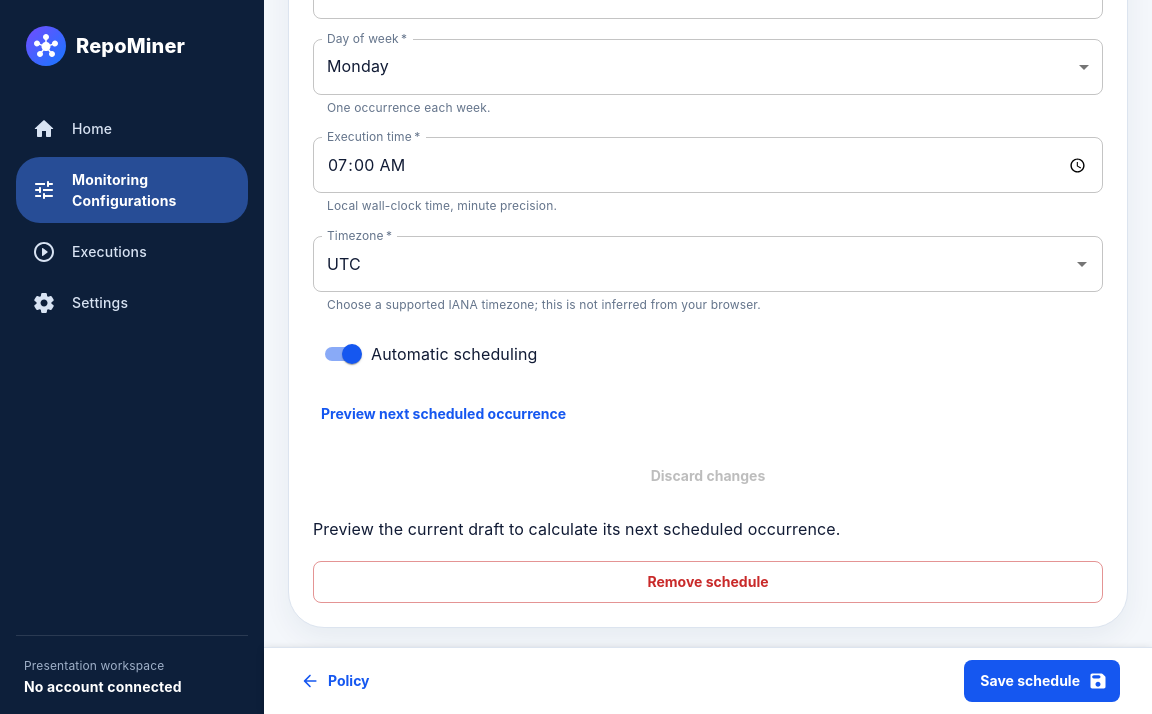
Test case: marks edits as unsaved and keeps navigation blocked until the user chooses
(page scrolled)
Click the switch labelled "Automatic scheduling" at [431, 354], box [325,344,538,364]
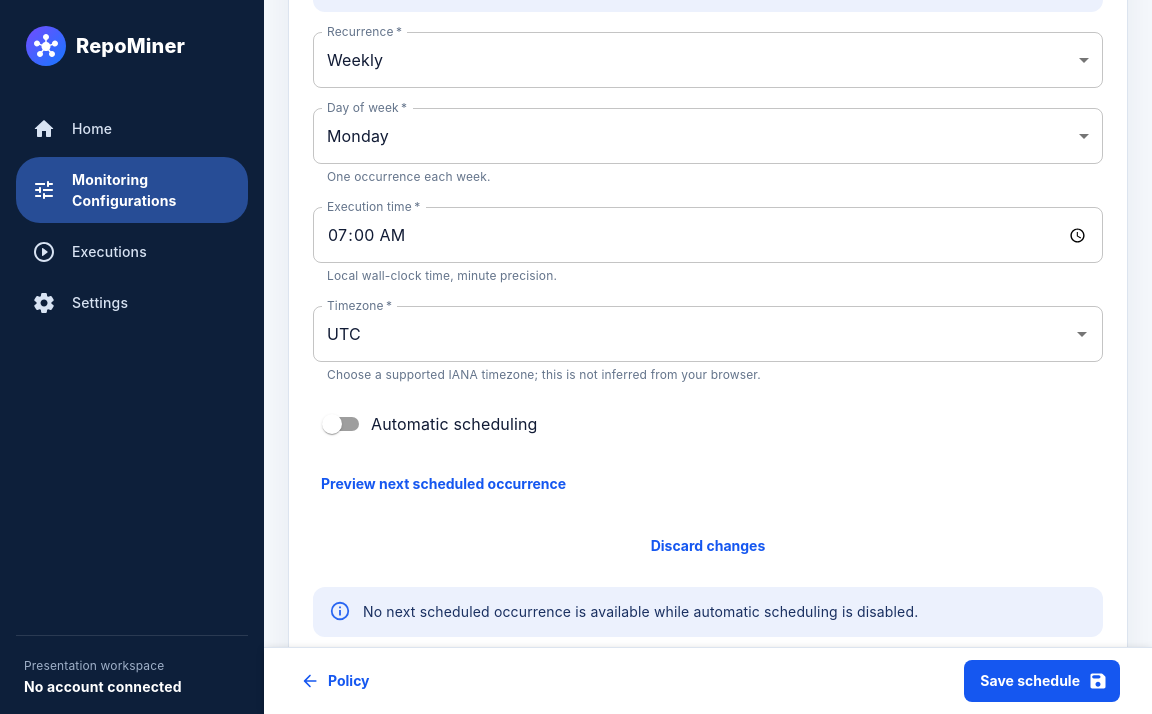
Click the link "Monitoring Configurations" at [132, 190], box [16,157,248,223]
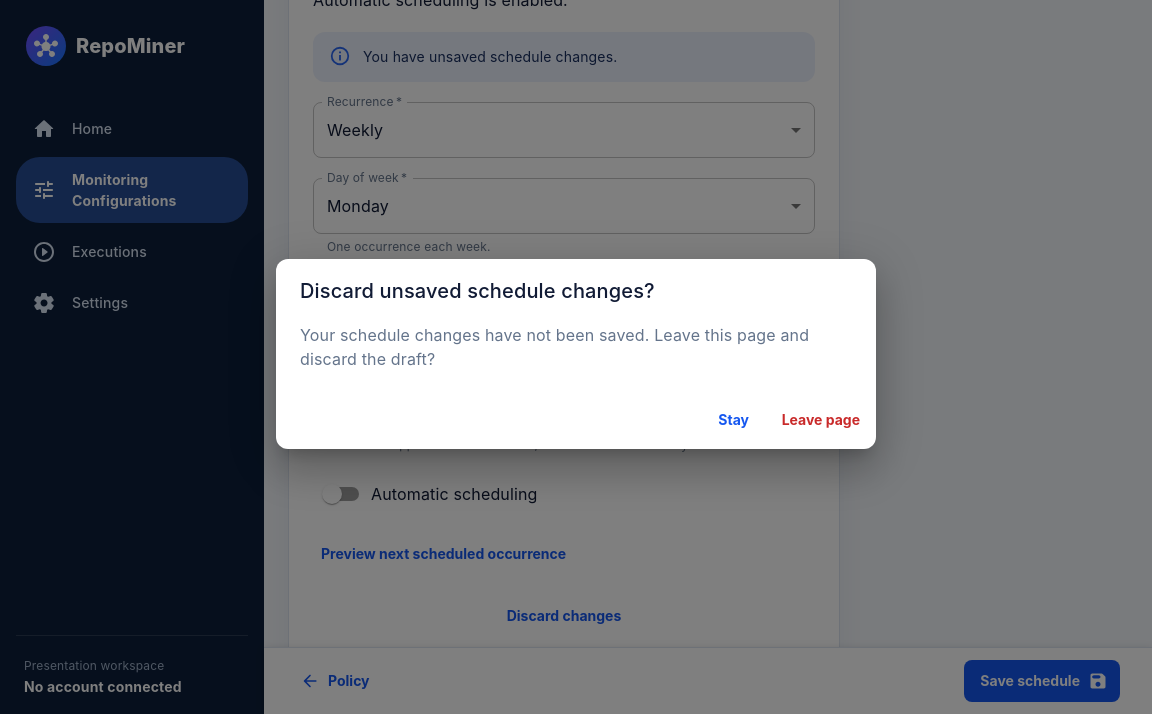
Click the button "Stay" at [734, 420], box [702,399,766,441]
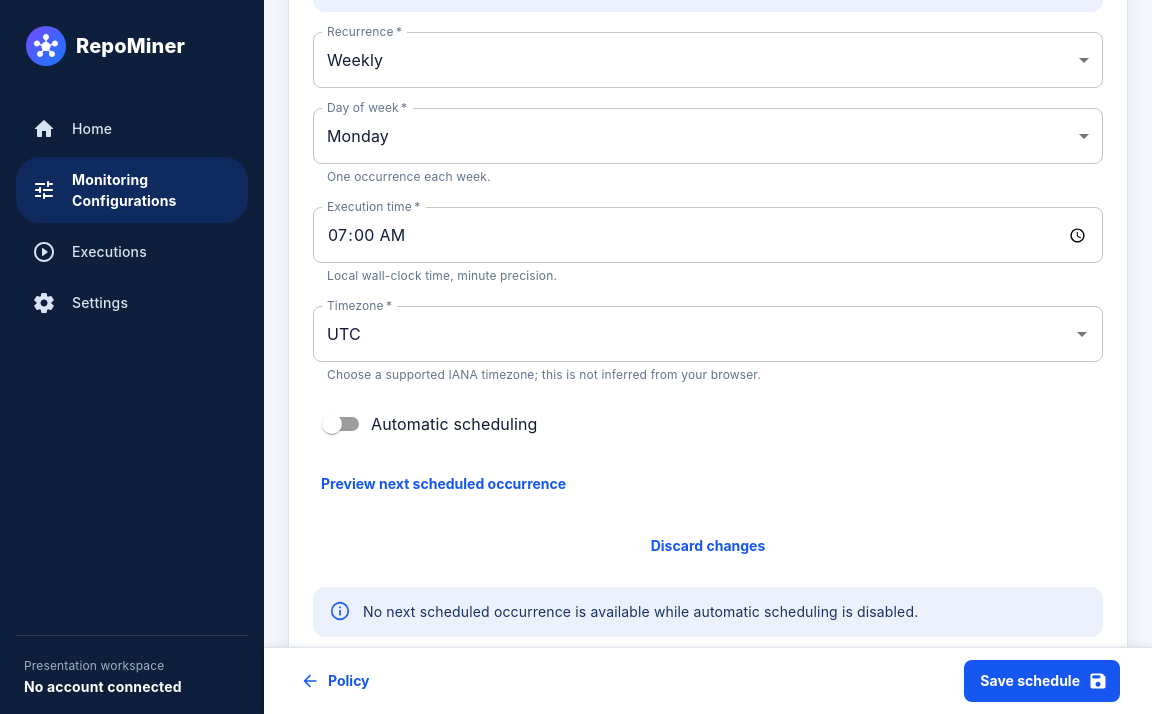
Check: the heading "Discard unsaved schedule changes?" is gone
Click the link "Monitoring Configurations" at [132, 190], box [16,157,248,223]
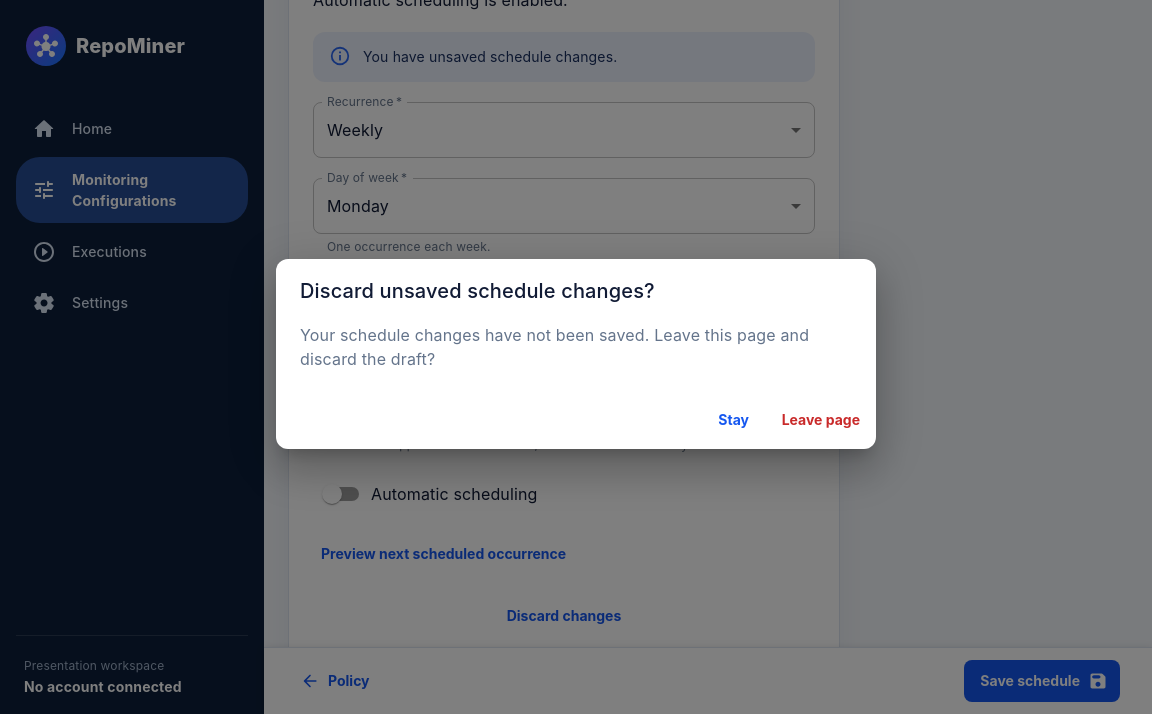
Click the button "Leave page" at [821, 420], box [774,399,868,441]
(page scrolled)
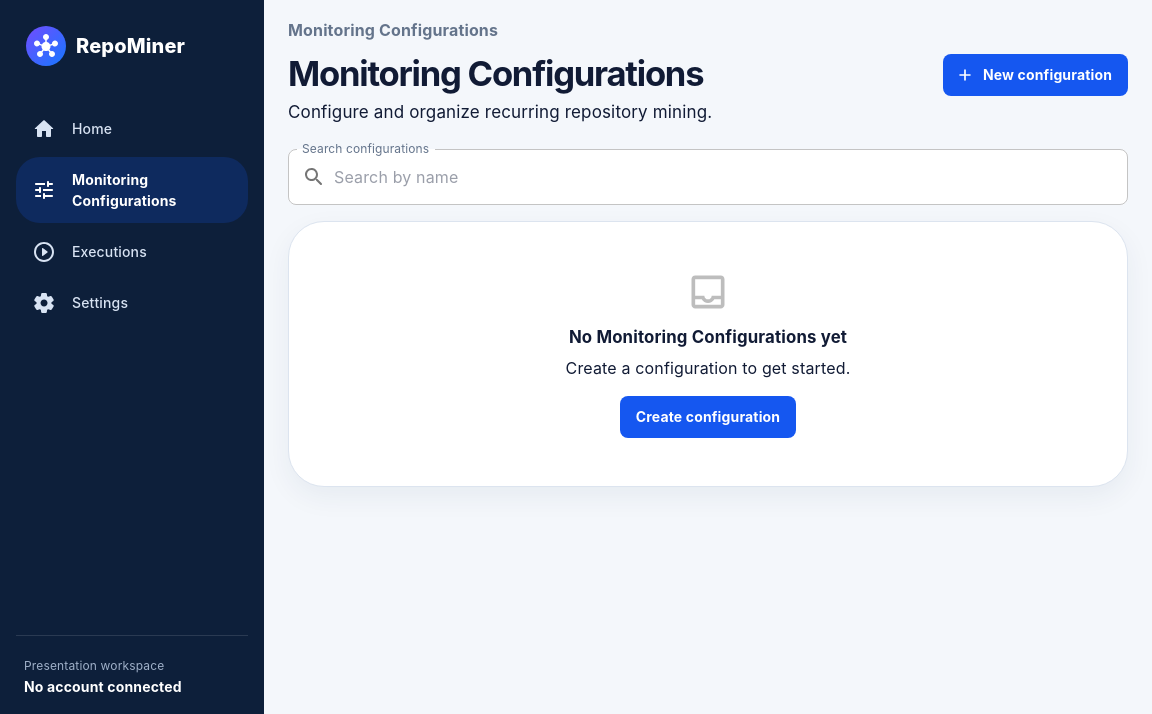
Check: the heading "Monitoring Configurations" is shown, box [288,54,703,94]
